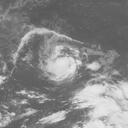cyclone: (36, 31, 86, 85)
